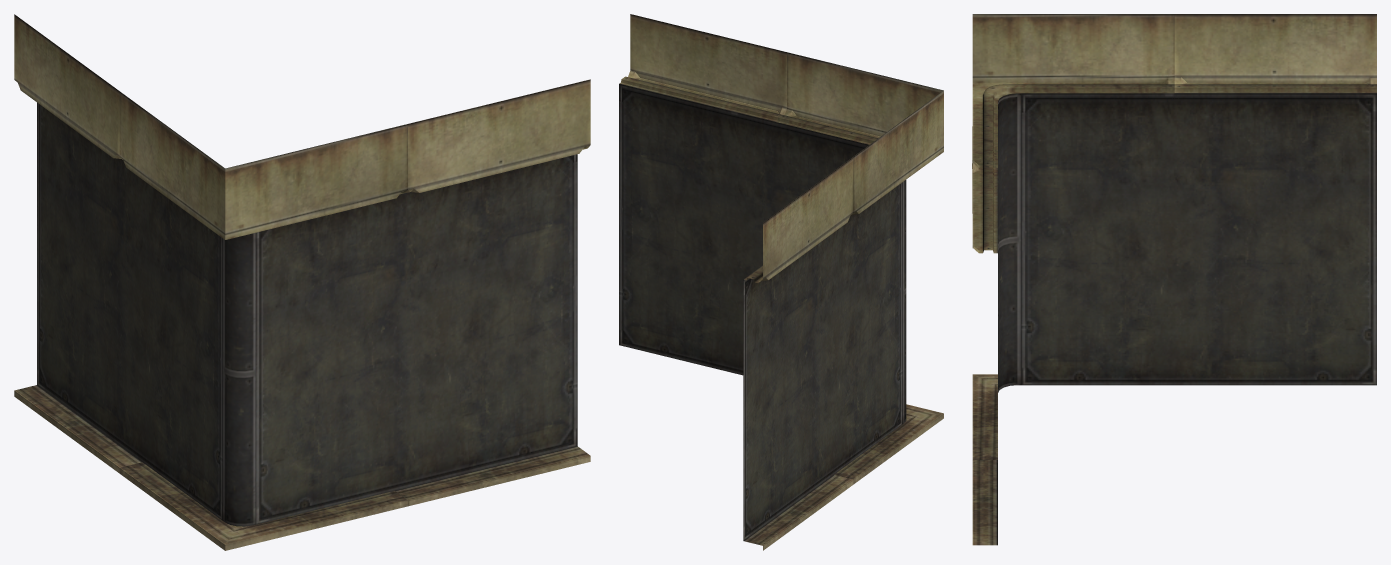
Rendered from pplant_ground_convex_blank.dae.
3 views of the same model, side by side, from view 1: azimuth 30°, elevation 25°; view 2: azimuth 150°, elevation 25°; view 3: azimuth 270°, elevation 25° (orthographic). The views are drawn at different scales.
Parts seen in each view (by area): view 1: ground_convex_blank; view 2: ground_convex_blank; view 3: ground_convex_blank.
Part boxes in pixels (left/top/right/bottom): ground_convex_blank: left=14, top=14, right=590, bottom=550; ground_convex_blank: left=619, top=14, right=943, bottom=550; ground_convex_blank: left=972, top=14, right=1376, bottom=545.
Size of the model in its own units: 4 by 4 by 4.01.
